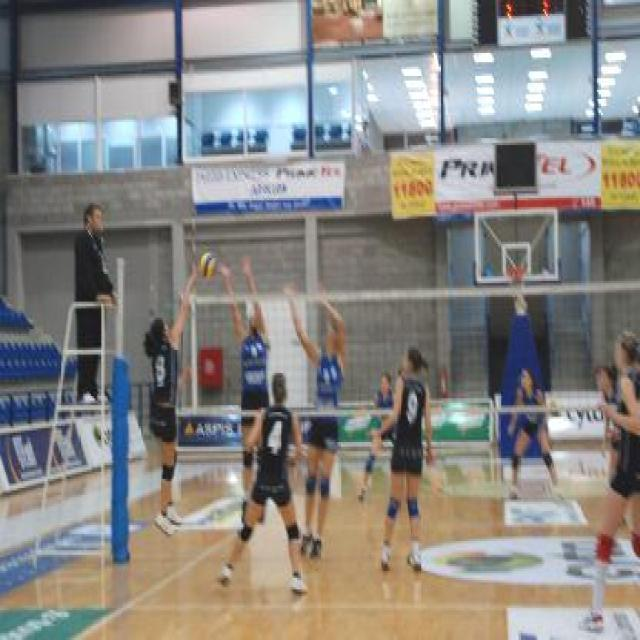volleyball: (198, 252, 218, 280)
